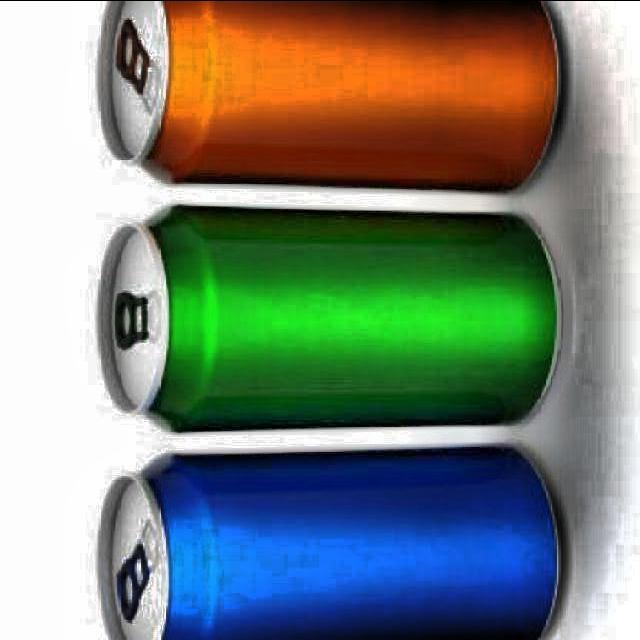Aluminum Can: (92, 199, 564, 434), (92, 438, 569, 640), (92, 0, 564, 196)
